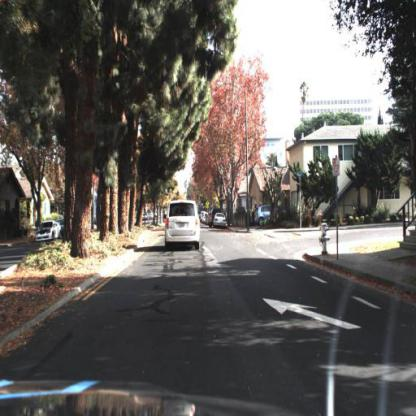car: (157, 196, 207, 250), (254, 204, 289, 230), (36, 219, 63, 243), (212, 211, 228, 230)
